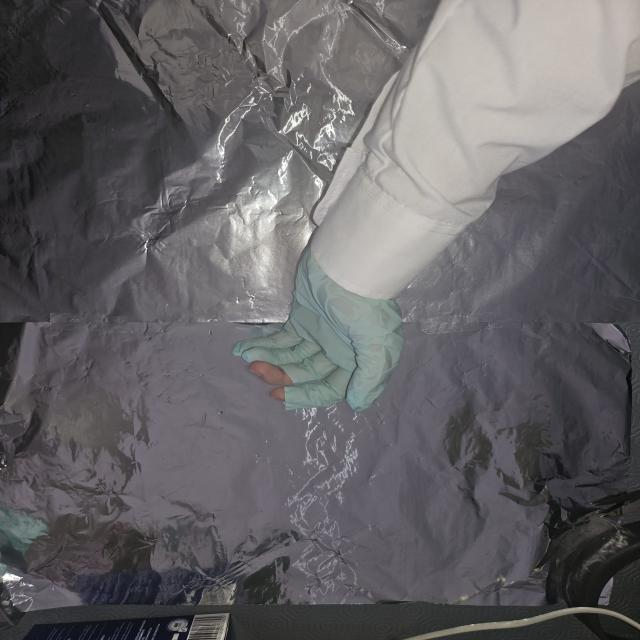gloves_damaged: (228, 245, 408, 414)
